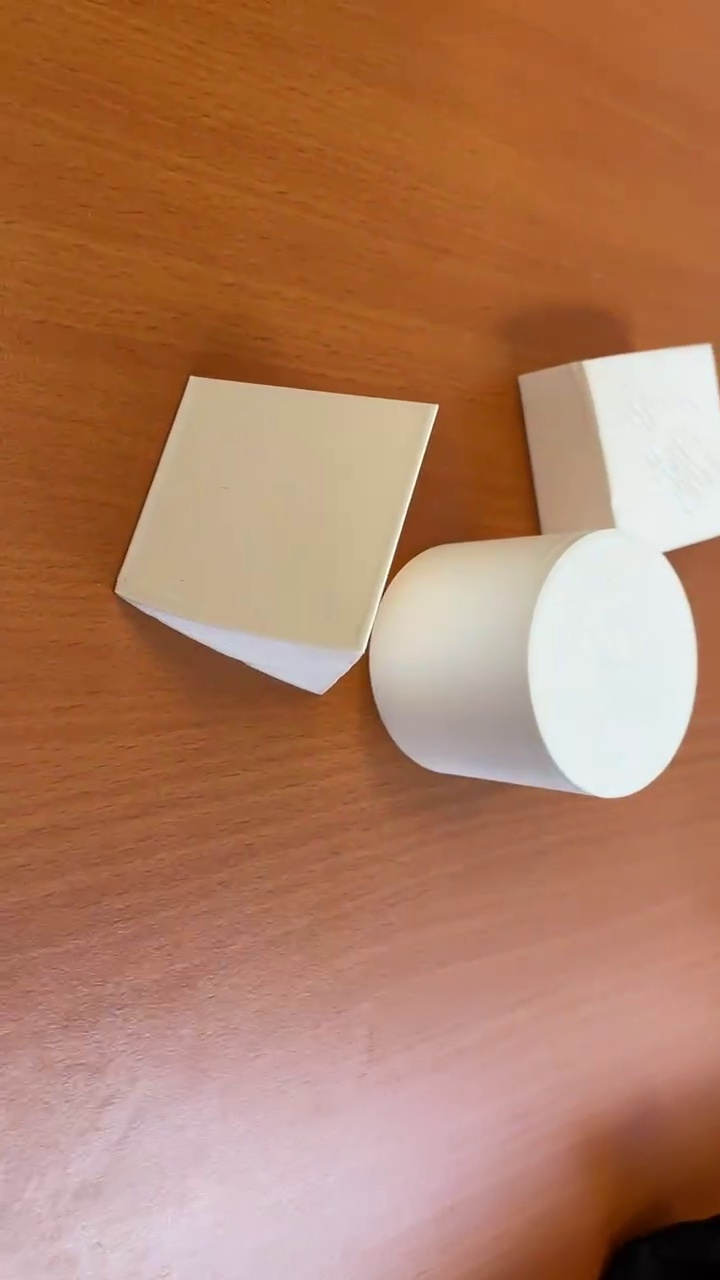Cube_short: (513, 346, 720, 553)
Cylinder: (363, 526, 701, 796)
Triangle: (115, 370, 441, 698)
